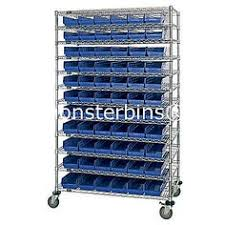Carts: (48, 5, 182, 220)
